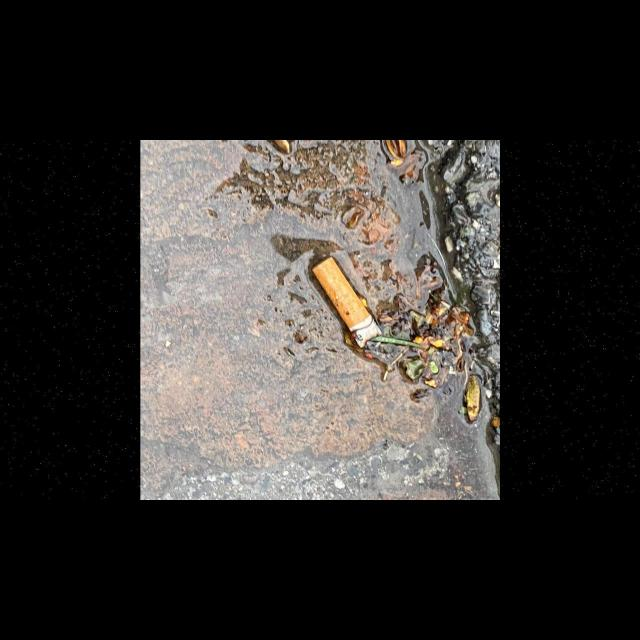cigarette: (310, 256, 382, 349)
